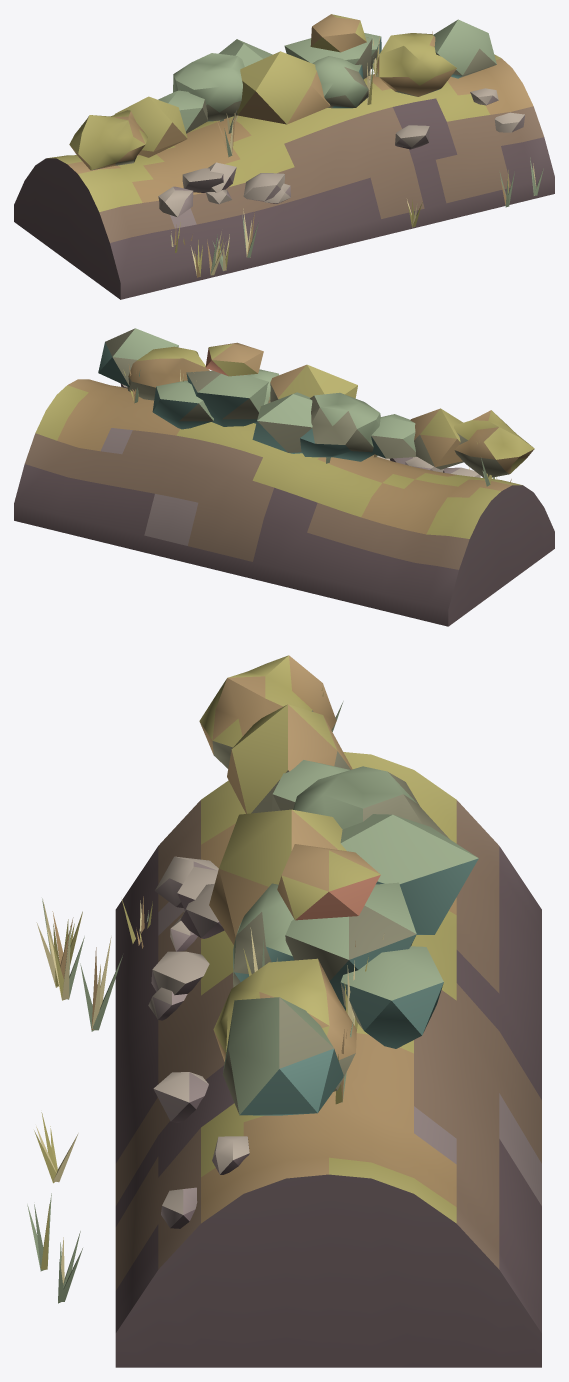
The model's file is hedgerow_segments_v2.glb.
3 views of the same model, one above another, from view 1: azimuth 30°, elevation 25°; view 2: azimuth 150°, elevation 25°; view 3: azimuth 270°, elevation 25° (orthographic). The views are drawn at different scales.
Parts seen in each view (by area): view 1: Body; view 2: Body; view 3: Body.
Part boxes in pixels (x1,y1,x2,y2): Body: (14, 14, 554, 299); Body: (14, 328, 554, 626); Body: (27, 655, 541, 1367).
Size of the model in its own units: 0.8205 by 0.3131 by 0.4107.
